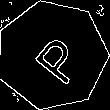P_NW: (21, 25, 84, 85)
